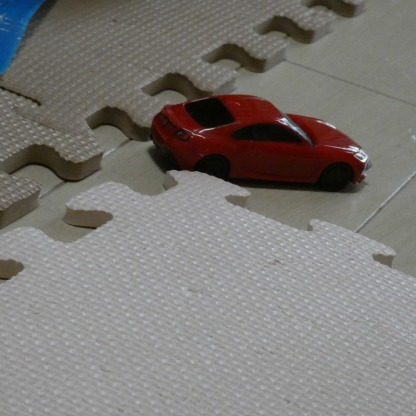car: (148, 94, 369, 191)
